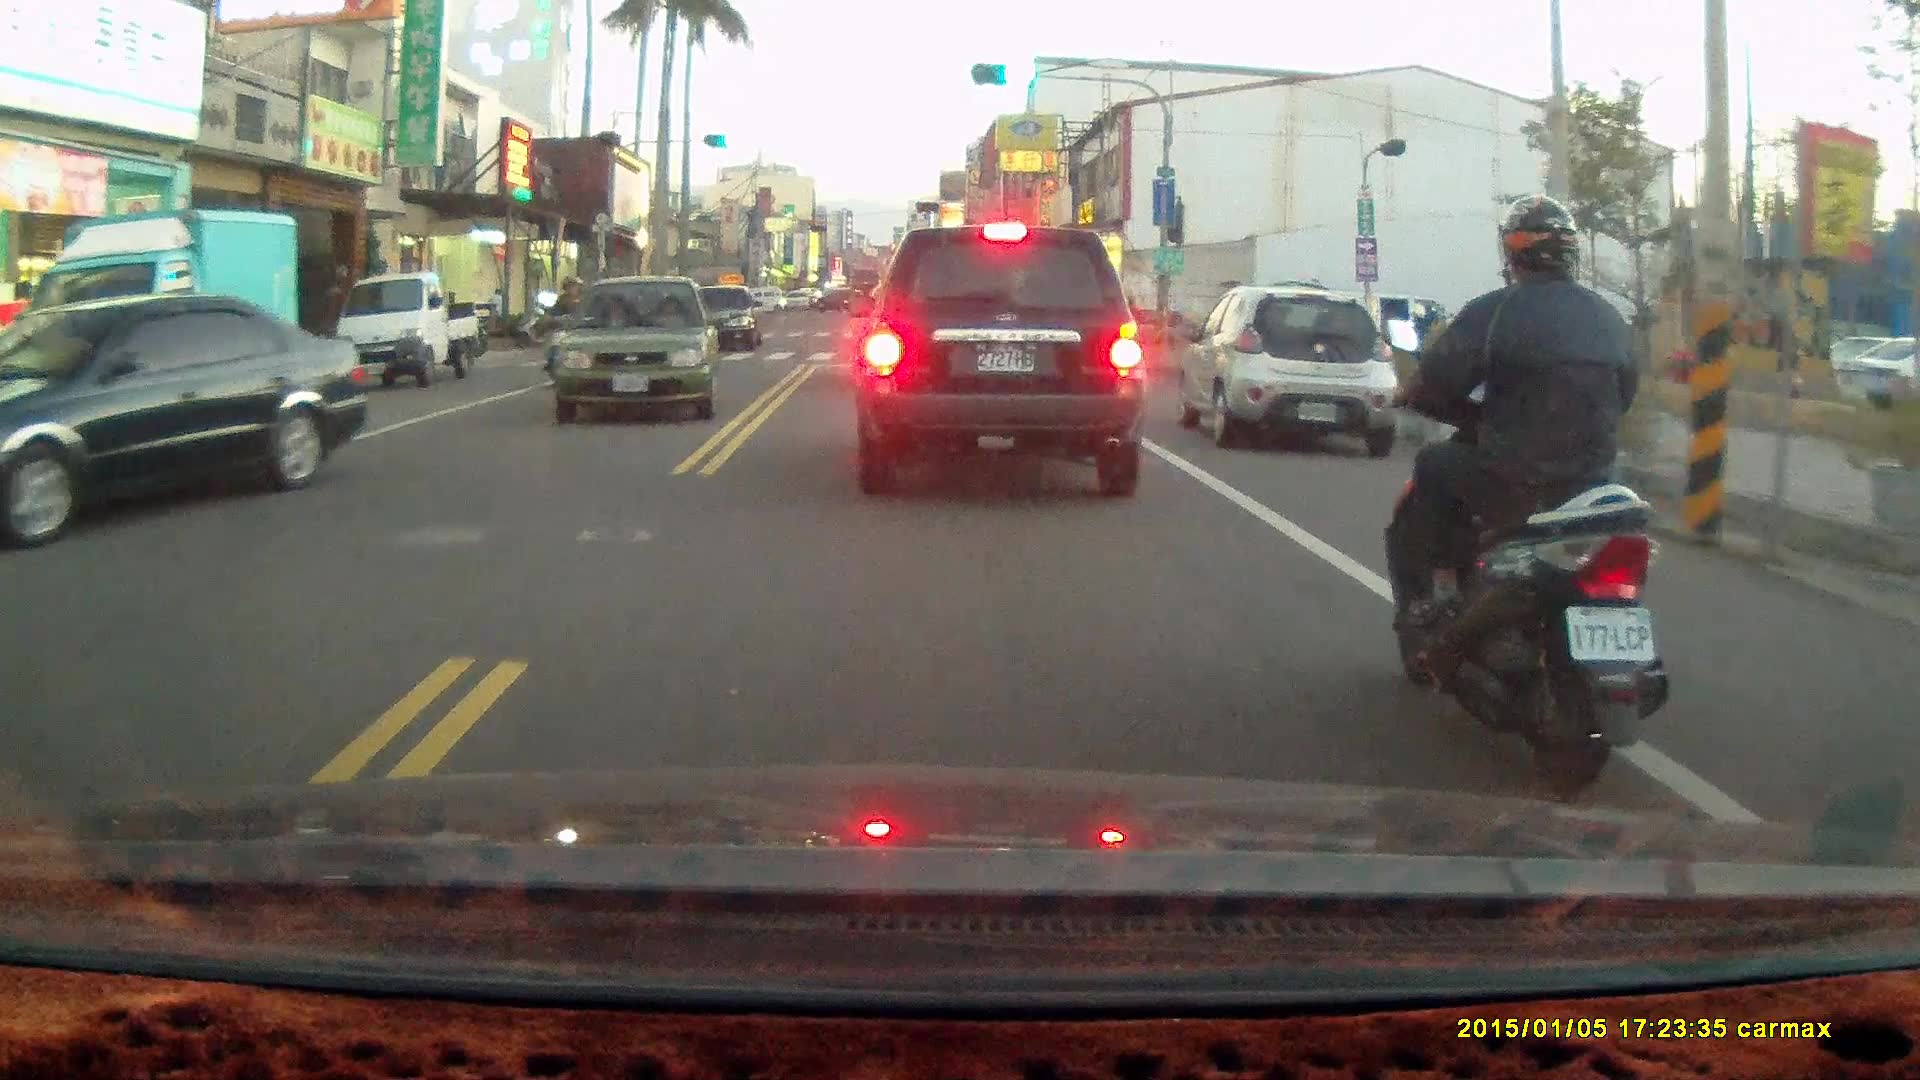rider: (1381, 197, 1673, 799), (537, 278, 587, 370)
vehicle: (1, 294, 374, 549), (853, 222, 1147, 500), (43, 208, 299, 434), (1185, 286, 1401, 453), (548, 271, 720, 424), (326, 268, 482, 386)
